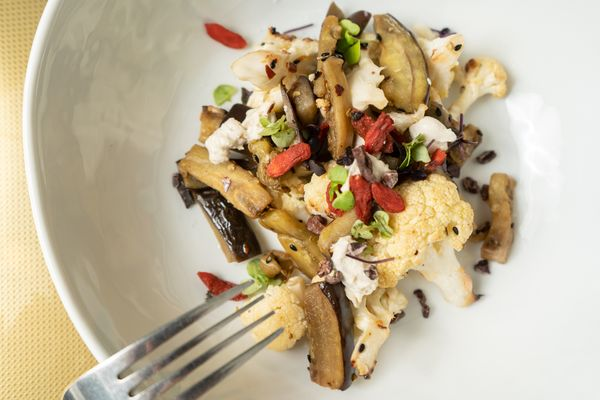burger: (62, 266, 289, 397)
